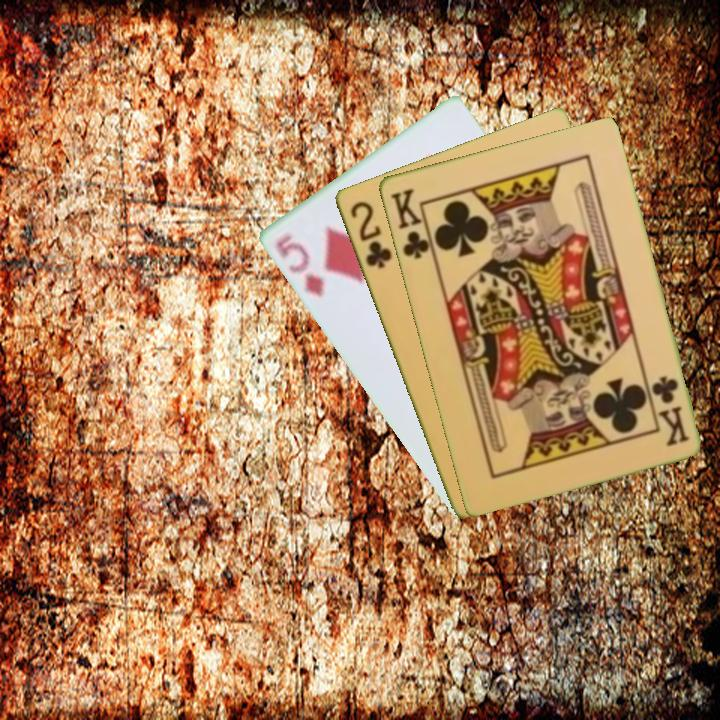2c: (346, 197, 394, 272)
5d: (272, 230, 326, 300)
Kc: (386, 184, 436, 262), (648, 371, 692, 449)
